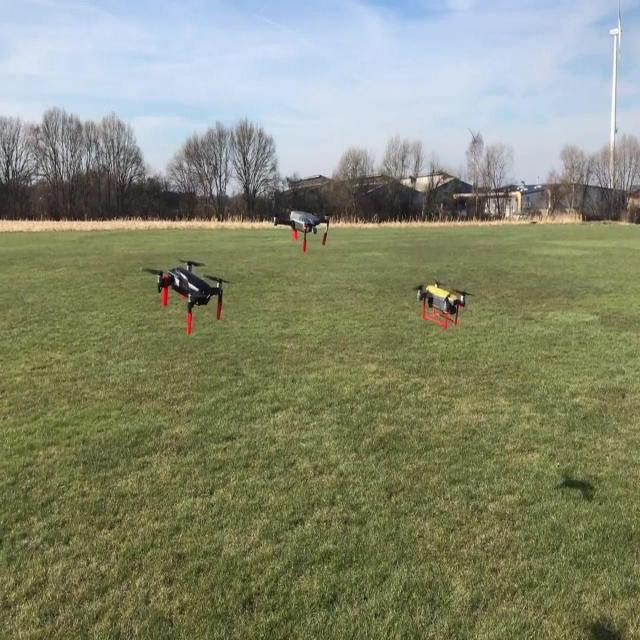UAV: (141, 259, 231, 336), (411, 278, 475, 331), (274, 209, 330, 253)
